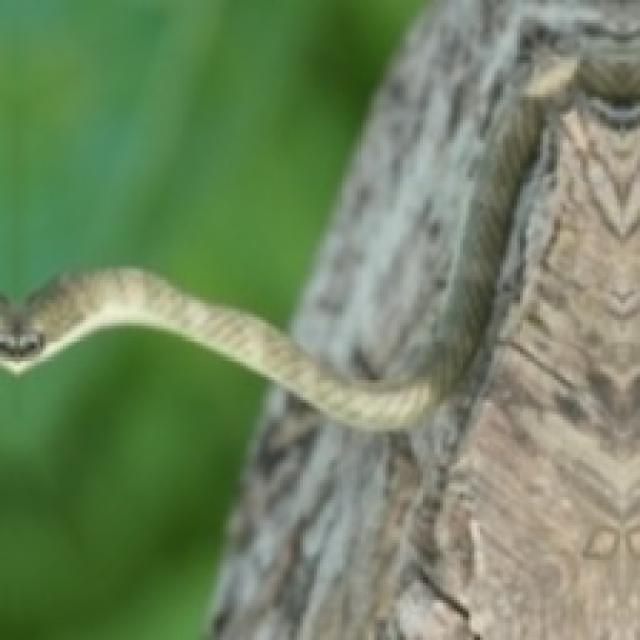paradise tree snake: (0, 0, 420, 323), (0, 329, 263, 637)
